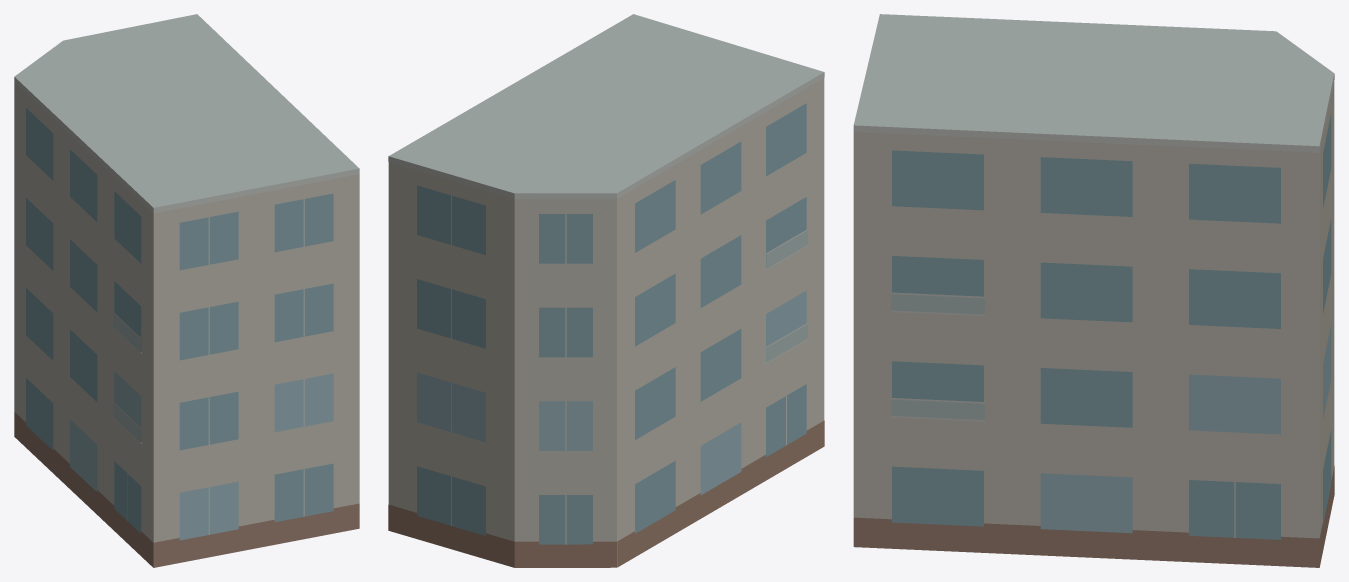
The model's file is survey-upis-32682932.glb.
The picture shows the model from 3 angles, left to right: view 1: azimuth 30°, elevation 25°; view 2: azimuth 150°, elevation 25°; view 3: azimuth 270°, elevation 25°; orthographic projection. The views are drawn at different scales.
Parts seen in each view (by area): view 1: survey-upis-32682932.tmp; view 2: survey-upis-32682932.tmp; view 3: survey-upis-32682932.tmp.
Part boxes in pixels (box(x1,y1,x2,y2)): survey-upis-32682932.tmp: box(14, 14, 359, 567); survey-upis-32682932.tmp: box(388, 14, 824, 567); survey-upis-32682932.tmp: box(853, 14, 1334, 567).
Size of the model in its own units: 10.69 by 15.88 by 16.42.
